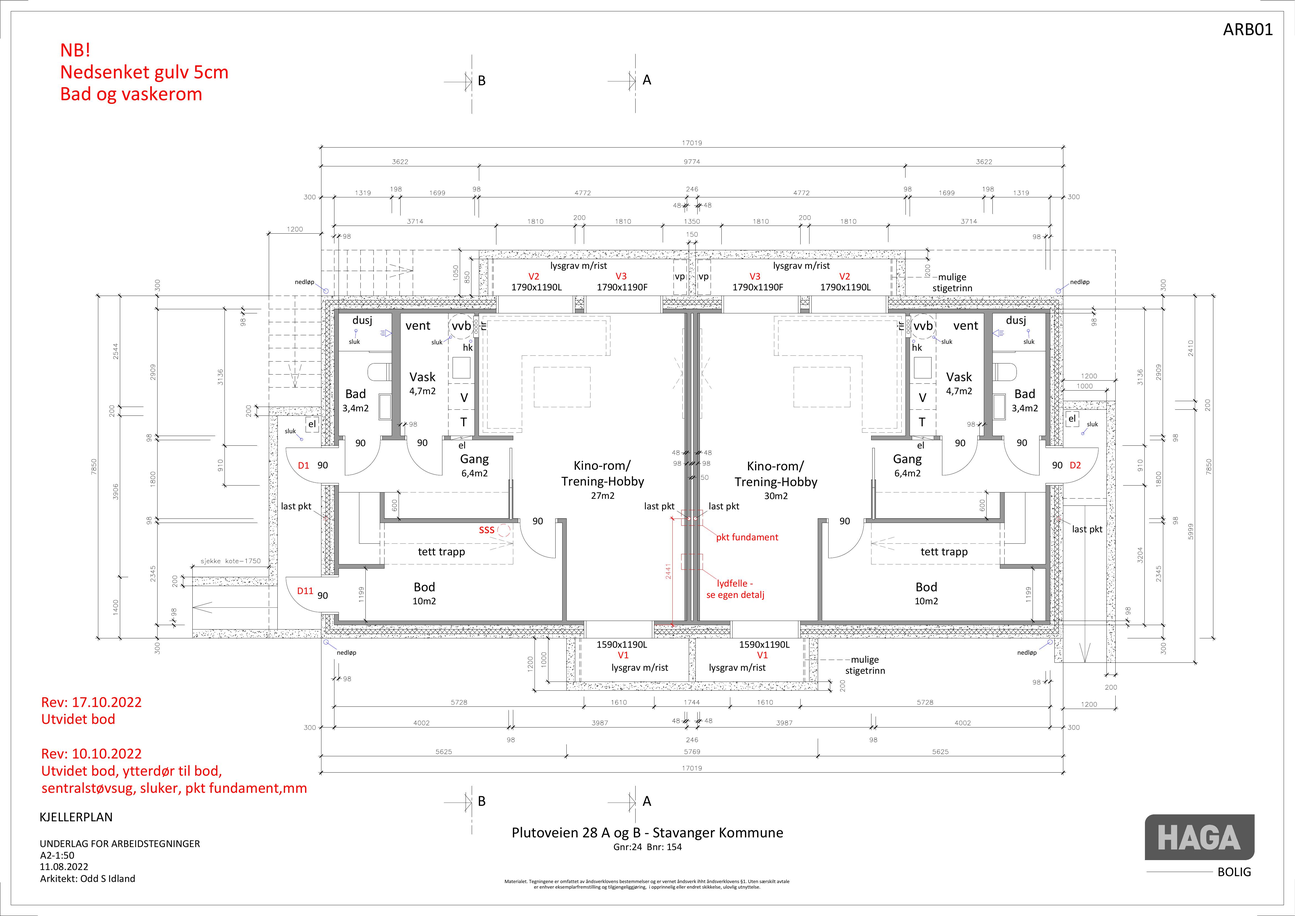plantegning: (283, 256, 1113, 690)
